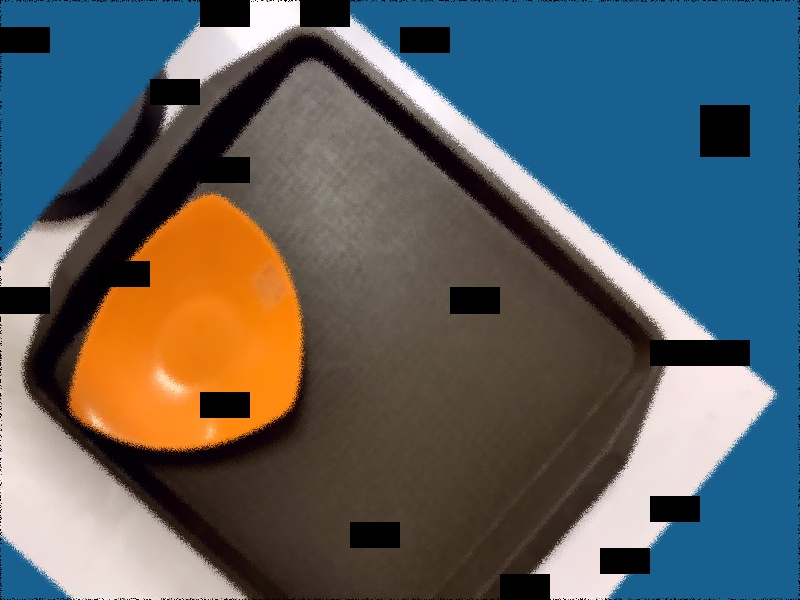dish11: (24, 169, 372, 535)
